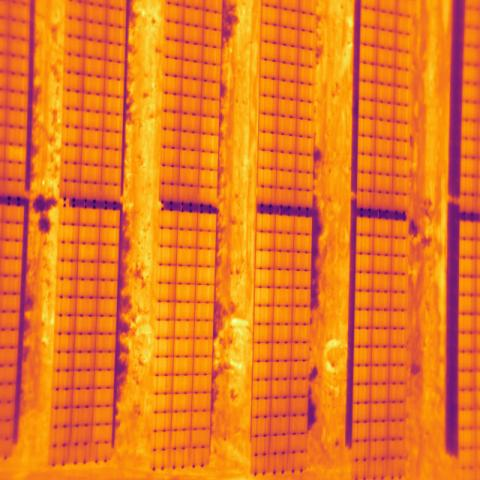fault: (5, 144, 26, 162)
